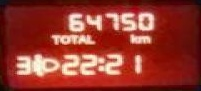0: (135, 11, 153, 30)
1: (132, 52, 142, 73)
2: (103, 52, 122, 75), (60, 52, 78, 75), (78, 52, 95, 75)
3: (13, 54, 30, 75)
4: (83, 13, 102, 31)
5: (118, 11, 135, 31)
6: (65, 11, 83, 31)
7: (103, 11, 118, 30)
X: (48, 32, 58, 45), (136, 35, 150, 44), (95, 56, 103, 71), (58, 32, 68, 43), (85, 32, 95, 43), (127, 32, 137, 42), (68, 34, 77, 45), (76, 34, 85, 44)
